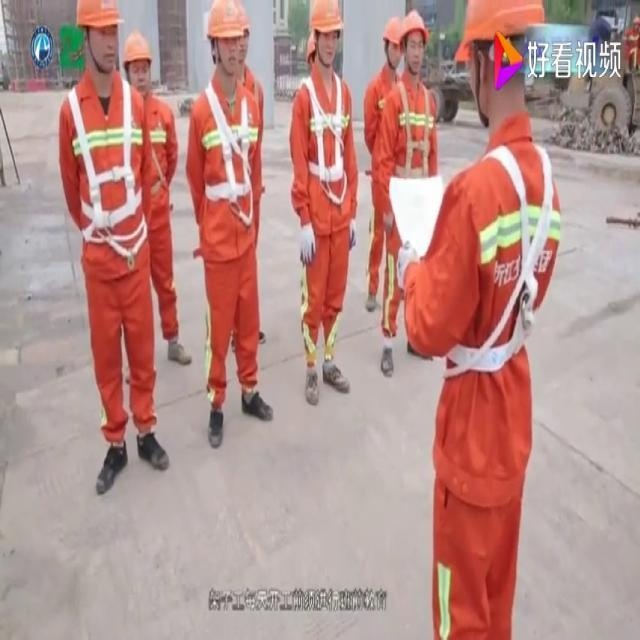Arnes_seguridad: (440, 133, 557, 381), (64, 71, 144, 254), (194, 74, 257, 223), (295, 68, 351, 199), (394, 77, 435, 179)
